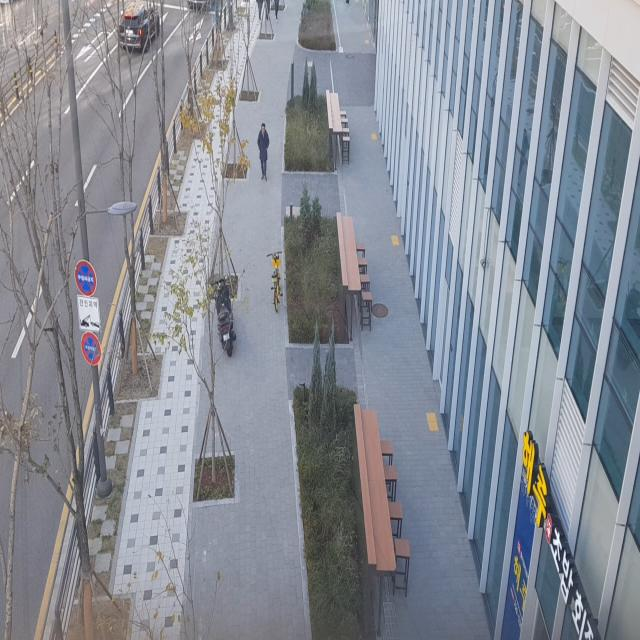Car: (117, 0, 168, 60)
